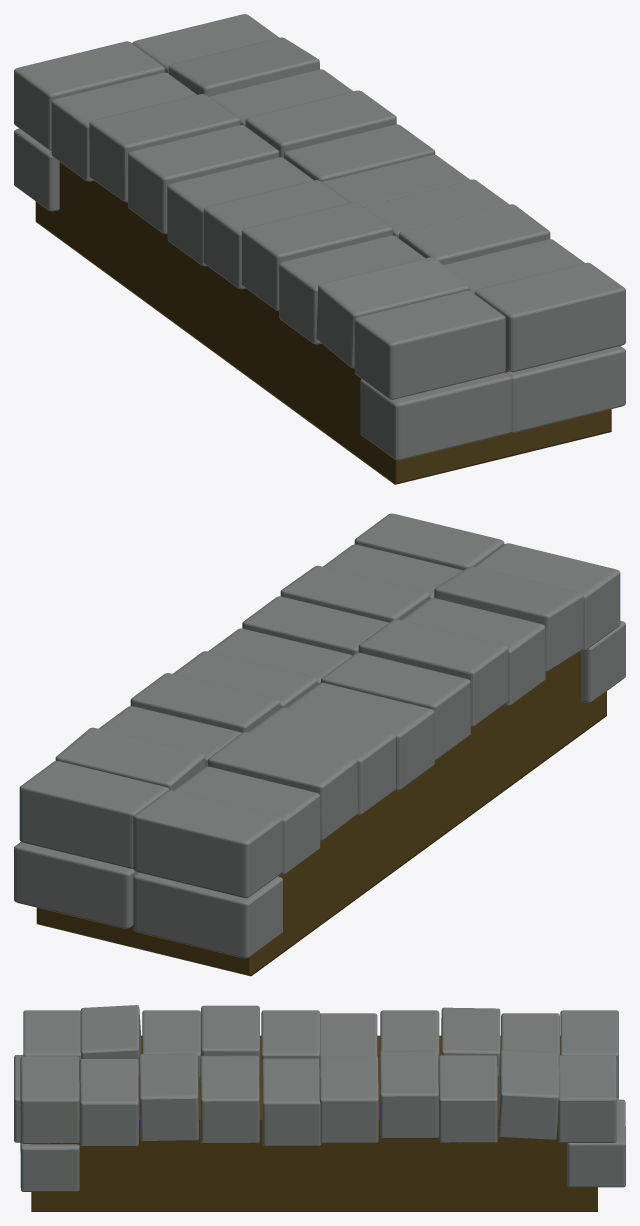
The model's file is Plataforma2.fbx.
The picture shows the model from 3 angles, top to bottom: view 1: azimuth 30°, elevation 25°; view 2: azimuth 150°, elevation 25°; view 3: azimuth 270°, elevation 25°; orthographic projection. The views are drawn at different scales.
Parts seen in each view (by area): view 1: Cube, Cube.001, Cube.023, Cube.002, Cube.009, Cube.024, Cube.004, Cube.006, Cube.010, Cube.012, Cube.007, Cube.005 (+12 smaller); view 2: Cube, Cube.012, Cube.003, Cube.020, Cube.013, Cube.010, Cube.006, Cube.004, Cube.007, Cube.008, Cube.009, Cube.011 (+12 smaller); view 3: Cube, Cube.014, Cube.019, Cube.017, Cube.023, Cube.016, Cube.021, Cube.015, Cube.022, Cube.018, Cube.003, Cube.004 (+12 smaller).
Boxes of the visible parts, left/top/right/bottom form: Cube: left=35, top=162, right=611, bottom=484; Cube.001: left=354, top=290, right=505, bottom=399; Cube.023: left=474, top=262, right=625, bottom=372; Cube.002: left=360, top=372, right=511, bottom=460; Cube.009: left=128, top=125, right=279, bottom=233; Cube.024: left=506, top=346, right=625, bottom=433; Cube.004: left=316, top=257, right=469, bottom=368; Cube.006: left=241, top=202, right=392, bottom=311; Cube.010: left=89, top=94, right=240, bottom=202; Cube.012: left=14, top=41, right=165, bottom=150; Cube.007: left=203, top=180, right=349, bottom=289; Cube.005: left=279, top=235, right=425, bottom=344; Cube: left=36, top=651, right=606, bottom=976; Cube.012: left=133, top=790, right=282, bottom=898; Cube.003: left=19, top=761, right=169, bottom=868; Cube.020: left=133, top=872, right=282, bottom=958; Cube.013: left=14, top=842, right=138, bottom=928; Cube.010: left=207, top=732, right=357, bottom=840; Cube.006: left=358, top=619, right=508, bottom=727; Cube.004: left=434, top=566, right=583, bottom=671; Cube.007: left=321, top=652, right=470, bottom=760; Cube.008: left=286, top=682, right=434, bottom=790; Cube.009: left=248, top=707, right=395, bottom=815; Cube.011: left=173, top=766, right=320, bottom=874; Cube: left=31, top=1035, right=597, bottom=1211; Cube.014: left=498, top=1050, right=559, bottom=1140; Cube.019: left=200, top=1055, right=259, bottom=1143; Cube.017: left=319, top=1055, right=378, bottom=1143; Cube.023: left=20, top=1056, right=79, bottom=1143; Cube.016: left=379, top=1050, right=438, bottom=1138; Cube.021: left=139, top=1053, right=198, bottom=1141; Cube.015: left=438, top=1055, right=497, bottom=1143; Cube.022: left=79, top=1059, right=138, bottom=1146; Cube.018: left=262, top=1058, right=321, bottom=1146; Cube.003: left=558, top=1055, right=616, bottom=1142; Cube.004: left=80, top=1005, right=140, bottom=1076.
Size of the model in its own units: 218 by 135 by 621.
